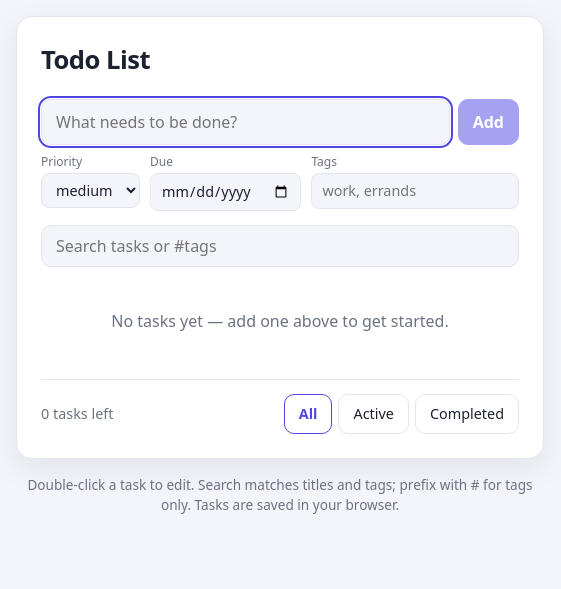
Test case: adding tasks › adds a task with the button and with Enter, clearing the input
The width and height of the screenshot is (561, 589).
Type "Buy milk" into the field named "New task".
click(245, 122); type("Buy milk")  # box [41,99,450,145]
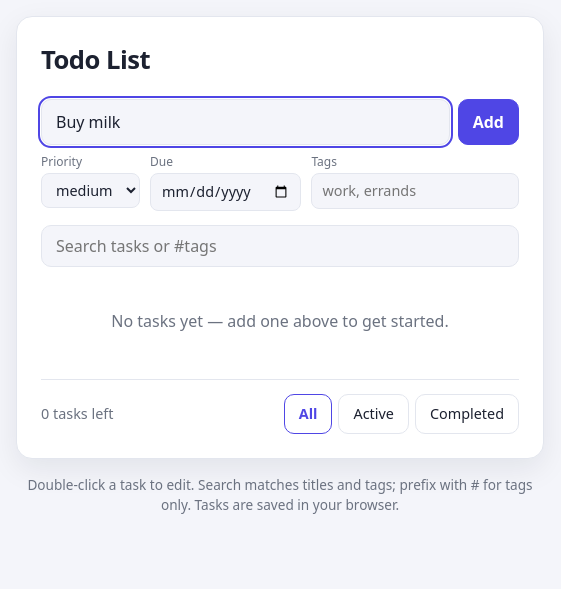
Click the button "Add".
click(488, 122)  # box [458,99,519,145]
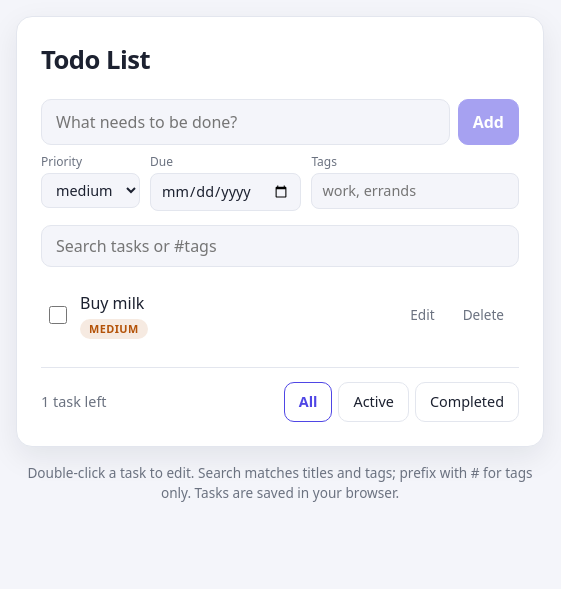
Now the field named "New task" is empty
Type "Write tests" into the field named "New task".
click(245, 122); type("Write tests")  # box [41,99,450,145]
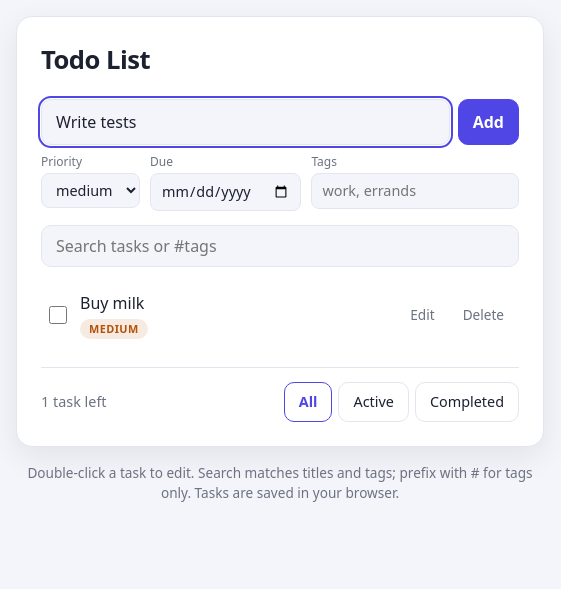
Press Enter
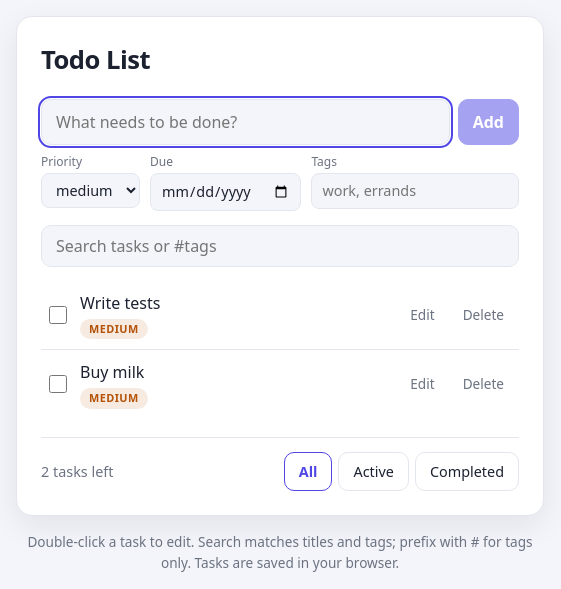
Now the text "Write tests" is shown, box [80,292,160,314]
Now the message reads "2 tasks left", box [41,461,114,482]
